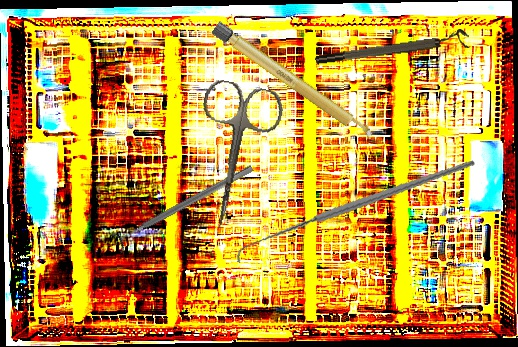Fixation Ring: (109, 157, 259, 255), (313, 28, 471, 67)
Hook Surgical: (235, 121, 477, 301)
Iris Scissors: (178, 77, 288, 236)
Scalpel Handle: (210, 20, 376, 144)
